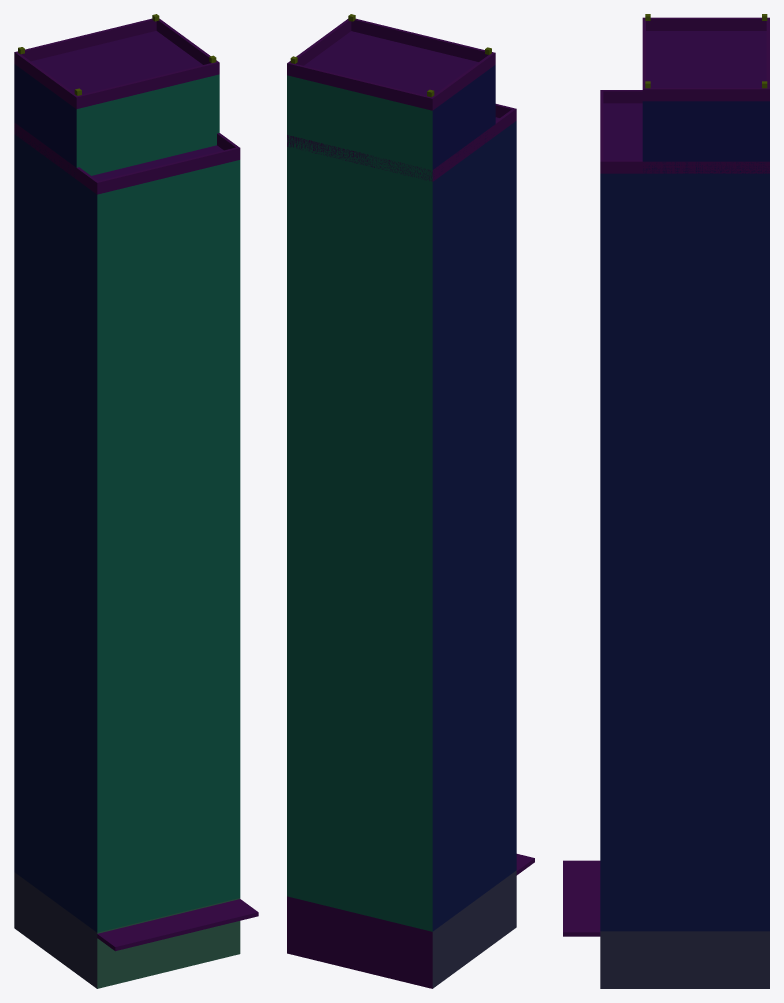
Rendered from slab_l.lod2.glb.
The picture shows the model from 3 angles, left to right: view 1: azimuth 30°, elevation 25°; view 2: azimuth 150°, elevation 25°; view 3: azimuth 270°, elevation 25°; orthographic projection. The views are drawn at different scales.
Visible parts, largest first — view 1: slab_l.lod2; view 2: slab_l.lod2; view 3: slab_l.lod2.
Part boxes in pixels (<box>): slab_l.lod2: <box>14,14,258,988</box>; slab_l.lod2: <box>287,14,534,988</box>; slab_l.lod2: <box>563,14,769,988</box>.
Size of the model in its own units: 12.8 by 75.2 by 15.6.
